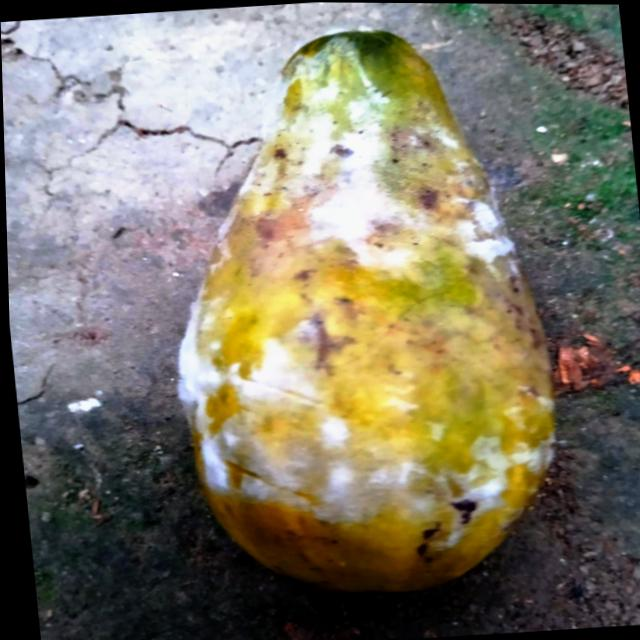Pythium-Fruit-Rot: (142, 15, 567, 564)
